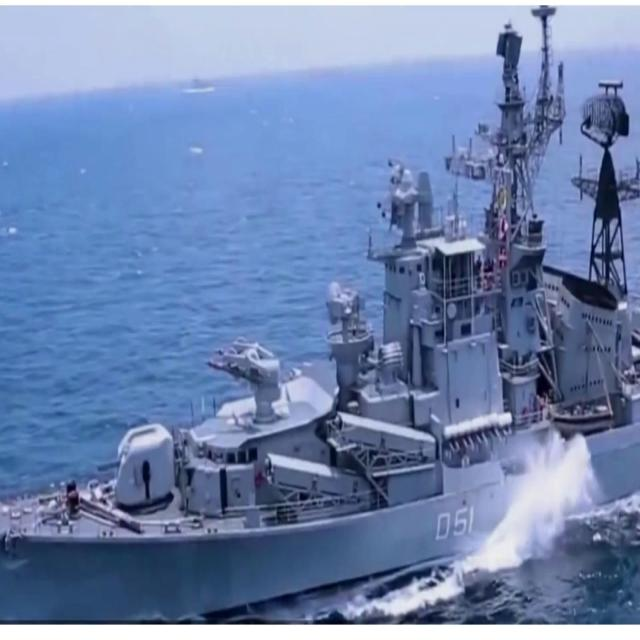OCR: (433, 501, 479, 552)
